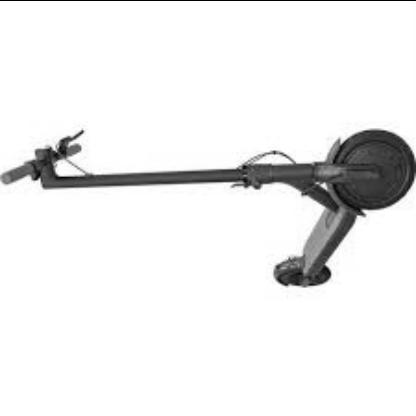bike: (12, 124, 416, 290), (238, 128, 416, 289)
